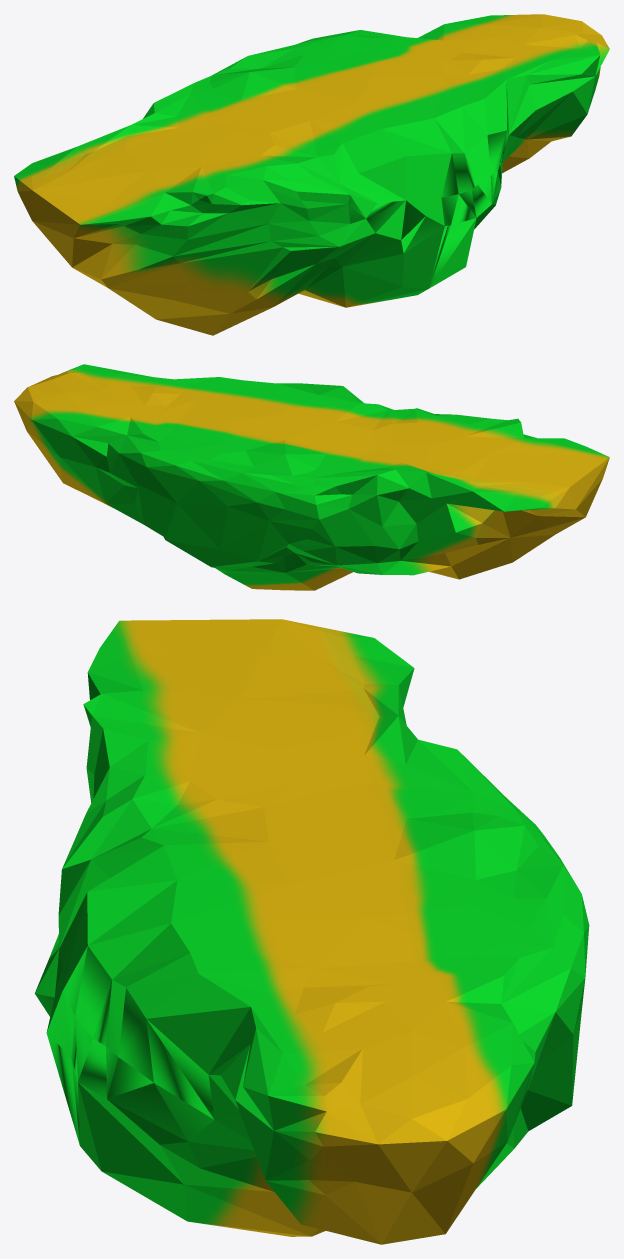
The model's file is landI.obj.
3 renders of one model, top to bottom at view 1: azimuth 30°, elevation 25°; view 2: azimuth 150°, elevation 25°; view 3: azimuth 270°, elevation 25°, orthographic. The views are drawn at different scales.
Parts seen in each view (by area): view 1: Ico_球體.026; view 2: Ico_球體.026; view 3: Ico_球體.026.
Part boxes in pixels (bbox=[...]): Ico_球體.026: bbox=[14, 14, 609, 335]; Ico_球體.026: bbox=[14, 364, 609, 590]; Ico_球體.026: bbox=[34, 619, 589, 1244].
Size of the model in its own units: 306 by 101 by 141.
Materials: 1 (1 with a texture image).
